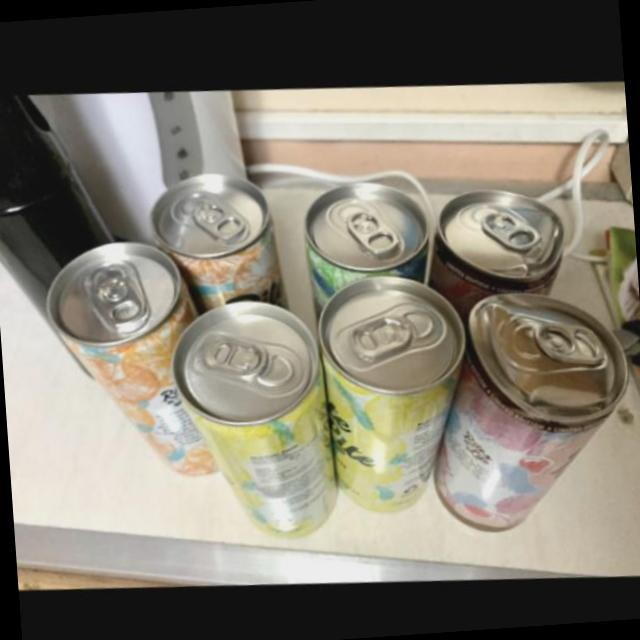nhom: (429, 289, 625, 530), (43, 239, 215, 474), (168, 299, 334, 535), (314, 273, 464, 512), (145, 170, 283, 310), (300, 177, 432, 311), (426, 186, 564, 309)
